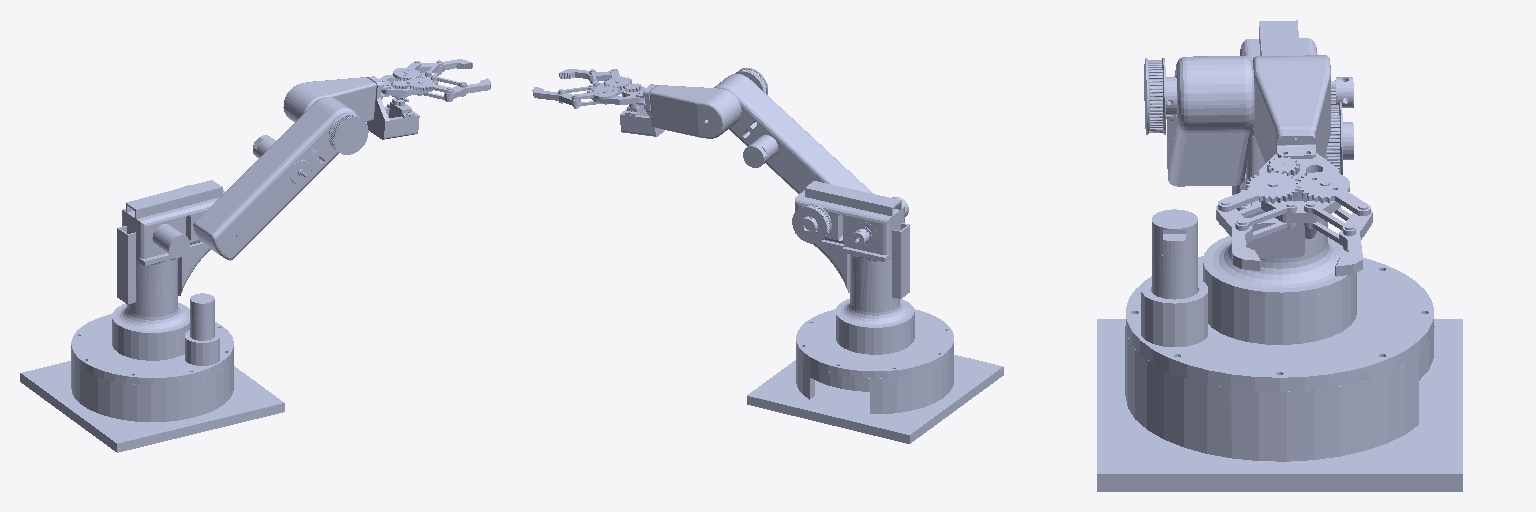
URDF robot description (ensamblador1):
<?xml version='1.0' encoding='utf-8'?>
<robot name="ensamblador1">
  <!-- GENERADO por herramientas/preparar_urdf.py a partir de originales/ensamblador1_urdf_test_model.urdf. No editar a mano: editar el original o la herramienta y regenerar. -->
  <link name="world" />
  <joint name="fijar_al_suelo" type="fixed">
    <parent link="world" />
    <child link="BASE" />
    <origin xyz="0 0 0" rpy="0 0 0" />
  </joint>
  <link name="BASE">
    <inertial>
      <origin xyz="0.00136677200467418 -0.00639380308058279 0.0171295915840594" rpy="0 0 0" />
      <mass value="0.754888955455691" />
      <inertia ixx="0.00192285337928567" ixy="1.20586980895583E-05" ixz="-4.28233565400652E-06" iyy="0.00199271107343671" iyz="2.15001773398834E-05" izz="0.00369310700230148" />
    </inertial>
    <visual>
      <origin xyz="0 0 0" rpy="0 0 0" />
      <geometry>
        <mesh filename="package://urdf_test/meshes/BASE.STL" />
      </geometry>
      <material name="">
        <color rgba="0.792156862745098 0.819607843137255 0.933333333333333 1" />
      </material>
    </visual>
  </link>
  <link name="LINK1">
    <inertial>
      <origin xyz="0.0148033818234096 -0.00150554848553286 0.135280575764737" rpy="0 0 0" />
      <mass value="0.455263061147759" />
      <inertia ixx="0.00077947509652376" ixy="-8.5982006431484E-06" ixz="-0.000205049869729128" iyy="0.00102442943494144" iyz="-7.16985046807448E-06" izz="0.000420992556097781" />
    </inertial>
    <visual>
      <origin xyz="0 0 0" rpy="0 0 0" />
      <geometry>
        <mesh filename="package://urdf_test/meshes/LINK1.STL" />
      </geometry>
      <material name="">
        <color rgba="0.792156862745098 0.819607843137255 0.933333333333333 1" />
      </material>
    </visual>
  </link>
  <joint name="JOINT1" type="continuous">
    <origin xyz="0 0 0" rpy="0 0 0" />
    <parent link="BASE" />
    <child link="LINK1" />
    <axis xyz="0 0 1" />
    <limit effort="10.0" velocity="2.0" />
    <dynamics damping="0.5" friction="0.0" />
  </joint>
  <link name="LINK2">
    <inertial>
      <origin xyz="0.0769079116194523 -5.191962987601E-06 -0.000228445190306736" rpy="0 0 0" />
      <mass value="0.307489816312597" />
      <inertia ixx="7.54334484233441E-05" ixy="8.75583963579696E-08" ixz="3.47885456592276E-06" iyy="0.000823236774618907" iyz="-1.24597476056515E-08" izz="0.000824938515208358" />
    </inertial>
    <visual>
      <origin xyz="0 0 0" rpy="0 0 0" />
      <geometry>
        <mesh filename="package://urdf_test/meshes/LINK2.STL" />
      </geometry>
      <material name="">
        <color rgba="0.792156862745098 0.819607843137255 0.933333333333333 1" />
      </material>
    </visual>
  </link>
  <joint name="JOINT2" type="continuous">
    <origin xyz="0.0603621218574259 -0.0395963680467823 0.173" rpy="1.5707963267949 -0.600972306898982 0.0349615289753919" />
    <parent link="LINK1" />
    <child link="LINK2" />
    <axis xyz="0 0 1" />
    <limit effort="10.0" velocity="2.0" />
    <dynamics damping="0.5" friction="0.0" />
  </joint>
  <link name="LINK3">
    <inertial>
      <origin xyz="0.0480366720745053 0.0226721886092709 0.00246576465357418" rpy="0 0 0" />
      <mass value="0.161191889245345" />
      <inertia ixx="4.1790403213516E-05" ixy="-2.04151726071471E-05" ixz="-1.94606100949496E-06" iyy="7.44394513698466E-05" iyz="3.67720816093729E-09" izz="8.65816399688166E-05" />
    </inertial>
    <visual>
      <origin xyz="0 0 0" rpy="0 0 0" />
      <geometry>
        <mesh filename="package://urdf_test/meshes/LINK3.STL" />
      </geometry>
      <material name="">
        <color rgba="0.792156862745098 0.819607843137255 0.933333333333333 1" />
      </material>
    </visual>
  </link>
  <joint name="JOINT3" type="continuous">
    <origin xyz="0.149999999998983 0 -0.0400000000034975" rpy="0 0 -1.16943729465582" />
    <parent link="LINK2" />
    <child link="LINK3" />
    <axis xyz="0 0 1" />
    <limit effort="10.0" velocity="2.0" />
    <dynamics damping="0.5" friction="0.0" />
  </joint>
  <gazebo>
    <plugin filename="gz-sim-joint-position-controller-system" name="gz::sim::systems::JointPositionController">
      <joint_name>JOINT1</joint_name>
      <topic>/ensamblador1/JOINT1/cmd_pos</topic>
      <p_gain>120.0</p_gain>
      <i_gain>40.0</i_gain>
      <d_gain>6.0</d_gain>
      <i_max>20.0</i_max>
      <i_min>-20.0</i_min>
      <cmd_max>60.0</cmd_max>
      <cmd_min>-60.0</cmd_min>
    </plugin>
  </gazebo>
  <gazebo>
    <plugin filename="gz-sim-joint-position-controller-system" name="gz::sim::systems::JointPositionController">
      <joint_name>JOINT2</joint_name>
      <topic>/ensamblador1/JOINT2/cmd_pos</topic>
      <p_gain>120.0</p_gain>
      <i_gain>40.0</i_gain>
      <d_gain>6.0</d_gain>
      <i_max>20.0</i_max>
      <i_min>-20.0</i_min>
      <cmd_max>60.0</cmd_max>
      <cmd_min>-60.0</cmd_min>
    </plugin>
  </gazebo>
  <gazebo>
    <plugin filename="gz-sim-joint-position-controller-system" name="gz::sim::systems::JointPositionController">
      <joint_name>JOINT3</joint_name>
      <topic>/ensamblador1/JOINT3/cmd_pos</topic>
      <p_gain>120.0</p_gain>
      <i_gain>40.0</i_gain>
      <d_gain>6.0</d_gain>
      <i_max>20.0</i_max>
      <i_min>-20.0</i_min>
      <cmd_max>60.0</cmd_max>
      <cmd_min>-60.0</cmd_min>
    </plugin>
  </gazebo>
  <gazebo>
    <plugin filename="gz-sim-joint-state-publisher-system" name="gz::sim::systems::JointStatePublisher" />
  </gazebo>
</robot>

--- Render facts (derived) ---
3 views of the same robot in one strip: view 1: azimuth 30°, elevation 25°; view 2: azimuth 150°, elevation 25°; view 3: azimuth 270°, elevation 25° (orthographic).
Robot: ensamblador1 — 5 links, 4 joints (3 continuous, 1 fixed); root link world; default pose: all joints at 0.
Visible links, largest first — view 1: BASE, LINK1, LINK2, LINK3; view 2: BASE, LINK1, LINK3, LINK2; view 3: BASE, LINK3, LINK1, LINK2.
Boxes of the visible links, bbox=[...] form: BASE: bbox=[20, 293, 284, 452]; LINK1: bbox=[112, 180, 224, 360]; LINK2: bbox=[193, 97, 368, 260]; LINK3: bbox=[283, 59, 490, 139]; BASE: bbox=[747, 309, 1003, 443]; LINK1: bbox=[792, 181, 914, 354]; LINK3: bbox=[532, 69, 741, 138]; LINK2: bbox=[714, 68, 872, 193]; BASE: bbox=[1097, 209, 1462, 491]; LINK3: bbox=[1216, 55, 1372, 276]; LINK1: bbox=[1203, 20, 1356, 344]; LINK2: bbox=[1144, 56, 1254, 186].
Bounding box of the posed robot: 0.4752 × 0.19 × 0.2889 m (x, y, z).
4 mesh visuals loaded from 4 distinct referenced files (4 binary STL).
